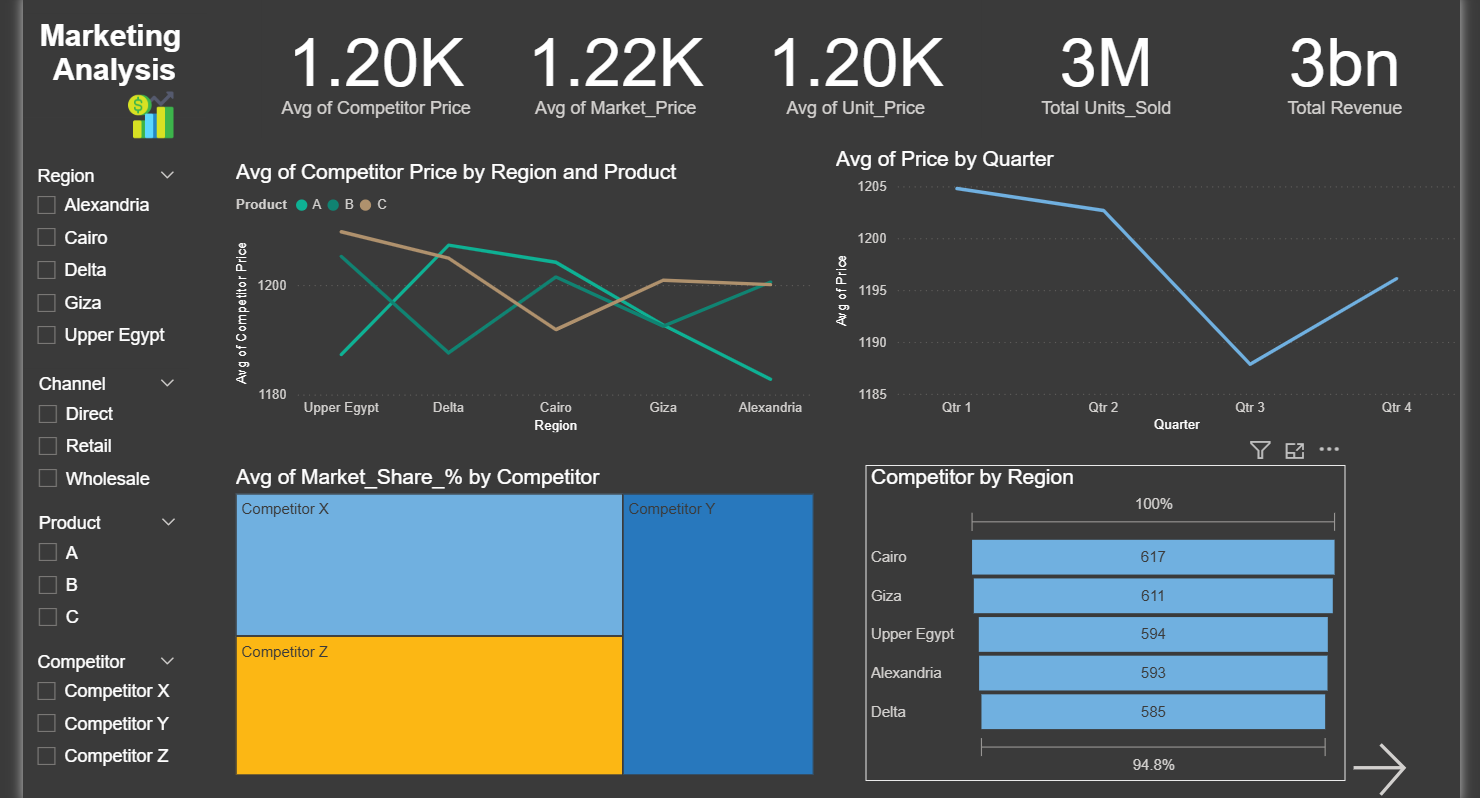

The page's visual inventory and layout, read from the dashboard file:
{"tool":"powerbi","page":{"name":"Competitor_Analysis","canvas":[1280,720],"ordinal":2},"visuals":[{"type":"card","fields":{"Values":["Avg(Sales_Data.Unit_Price)"]},"box":[630.4,0,223.3,127.3],"z":0},{"type":"card","fields":{"Values":["Sum(Sales_Data.Units_Sold)"]},"box":[853.7,0,222.1,127.3],"z":1000},{"type":"card","fields":{"Values":["Sum(Sales_Data.Revenue)"]},"box":[1075.9,0,204.1,127.3],"z":2000},{"type":"slicer","fields":{"Values":["Competitor_Analysis.Region"]},"box":[0,146.5,147.7,186.1],"z":3000},{"type":"slicer","fields":{"Values":["Sales_Data.Product"]},"box":[1.2,456.3,147.7,123.7],"z":4000},{"type":"slicer","fields":{"Values":["Competitor_Analysis.Competitor"]},"box":[0,580,147.7,120.1],"z":5000},{"type":"card","fields":{"Values":["Avg(Market_Prices.Average_Market_Price)"]},"box":[416.7,0,223.3,127.3],"z":6000},{"type":"card","fields":{"Values":["Avg(Competitor_Analysis.Price)"]},"box":[212.5,0,204.1,127.3],"z":7000},{"type":"textbox","box":[0,16.8,163.3,92.5],"z":8000},{"type":"image","box":[74.4,78,78,57.6],"z":9000},{"type":"slicer","fields":{"Values":["Sales_Data.Channel"]},"box":[1.2,332.6,146.5,123.7],"z":10000},{"type":"lineChart","fields":{"Category":["Competitor_Analysis.Region"],"Y":["Avg(Competitor_Analysis.Price)"],"Series":["Competitor_Analysis.Product"]},"box":[184.9,146.5,524.4,247.7],"z":11000},{"type":"treemap","fields":{"Group":["Competitor_Analysis.Competitor"],"Values":["Avg(Competitor_Analysis.Market_Share_%)"]},"box":[184.9,418.6,524.4,281.4],"z":12000},{"type":"funnel","fields":{"Category":["Competitor_Analysis.Region"],"Y":["CountNonNull(Competitor_Analysis.Competitor)"]},"box":[750,418.6,427.9,281.4],"z":13000},{"type":"lineChart","fields":{"Category":["Competitor_Analysis.Date.Variation.Date Hierarchy.Quarter","Competitor_Analysis.Date.Variation.Date Hierarchy.Month","Competitor_Analysis.Date.Variation.Date Hierarchy.Day"],"Y":["Avg(Competitor_Analysis.Price)"]},"box":[718.6,136,561.6,258.1],"z":14000},{"type":"actionButton","box":[1177.7,660.5,102.3,59.3],"z":15000}]}

Visuals, with their boxes on the page's 1280x720 design canvas (x1, y1, x2, y2). These are canvas units, not pixel positions in the 1480x798 screenshot, which may show the page scaled, cropped or inside an application window:
card - Avg(Sales_Data.Unit_Price): [630, 0, 854, 127]
card - Sum(Sales_Data.Units_Sold): [854, 0, 1076, 127]
card - Sum(Sales_Data.Revenue): [1076, 0, 1280, 127]
slicer - Competitor_Analysis.Region: [0, 146, 148, 333]
slicer - Sales_Data.Product: [1, 456, 149, 580]
slicer - Competitor_Analysis.Competitor: [0, 580, 148, 700]
card - Avg(Market_Prices.Average_Market_Price): [417, 0, 640, 127]
card - Avg(Competitor_Analysis.Price): [212, 0, 417, 127]
textbox: [0, 17, 163, 109]
image: [74, 78, 152, 136]
slicer - Sales_Data.Channel: [1, 333, 148, 456]
lineChart - Competitor_Analysis.Region x Avg(Competitor_Analysis.Price): [185, 146, 709, 394]
treemap - Competitor_Analysis.Competitor x Avg(Competitor_Analysis.Market_Share_%): [185, 419, 709, 700]
funnel - Competitor_Analysis.Region x CountNonNull(Competitor_Analysis.Competitor): [750, 419, 1178, 700]
lineChart - Competitor_Analysis.Date.Variation.Date Hierarchy.Quarter x Competitor_Analysis.Date.Variation.Date Hierarchy.Month: [719, 136, 1280, 394]
actionButton: [1178, 660, 1280, 720]
